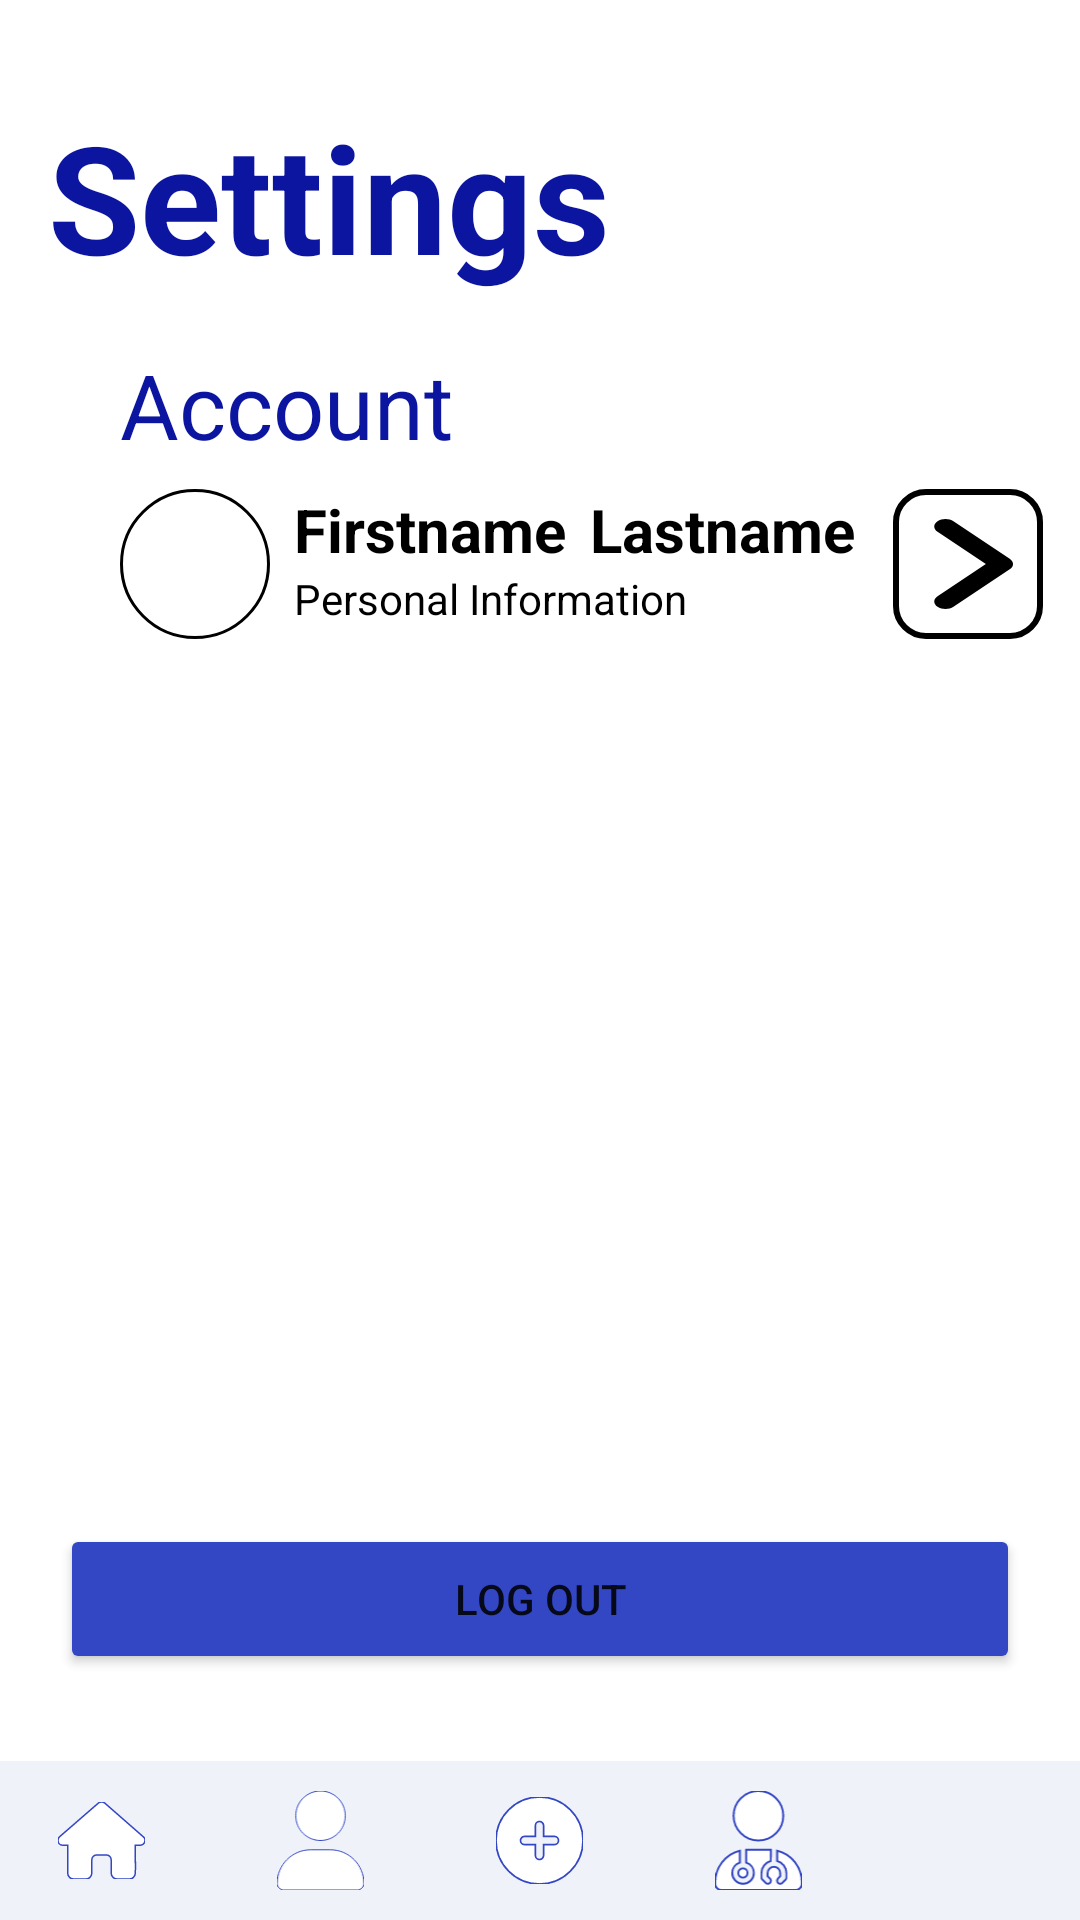

Named icons in this screenshot (1080*1920) and their centers, (x=x, y=y):
circle plus: (x=539, y=1840)
house: (x=101, y=1840)
user: (x=320, y=1840)
user doctor: (x=758, y=1840)
